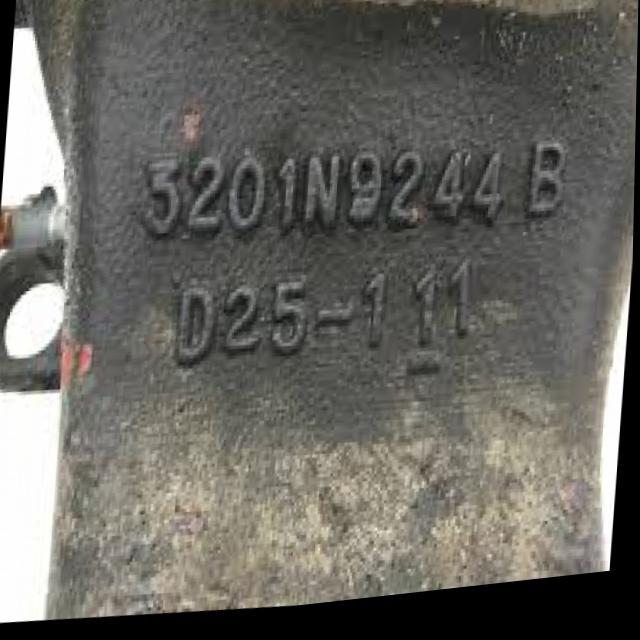ocr: (138, 118, 580, 284), (165, 246, 483, 405)
